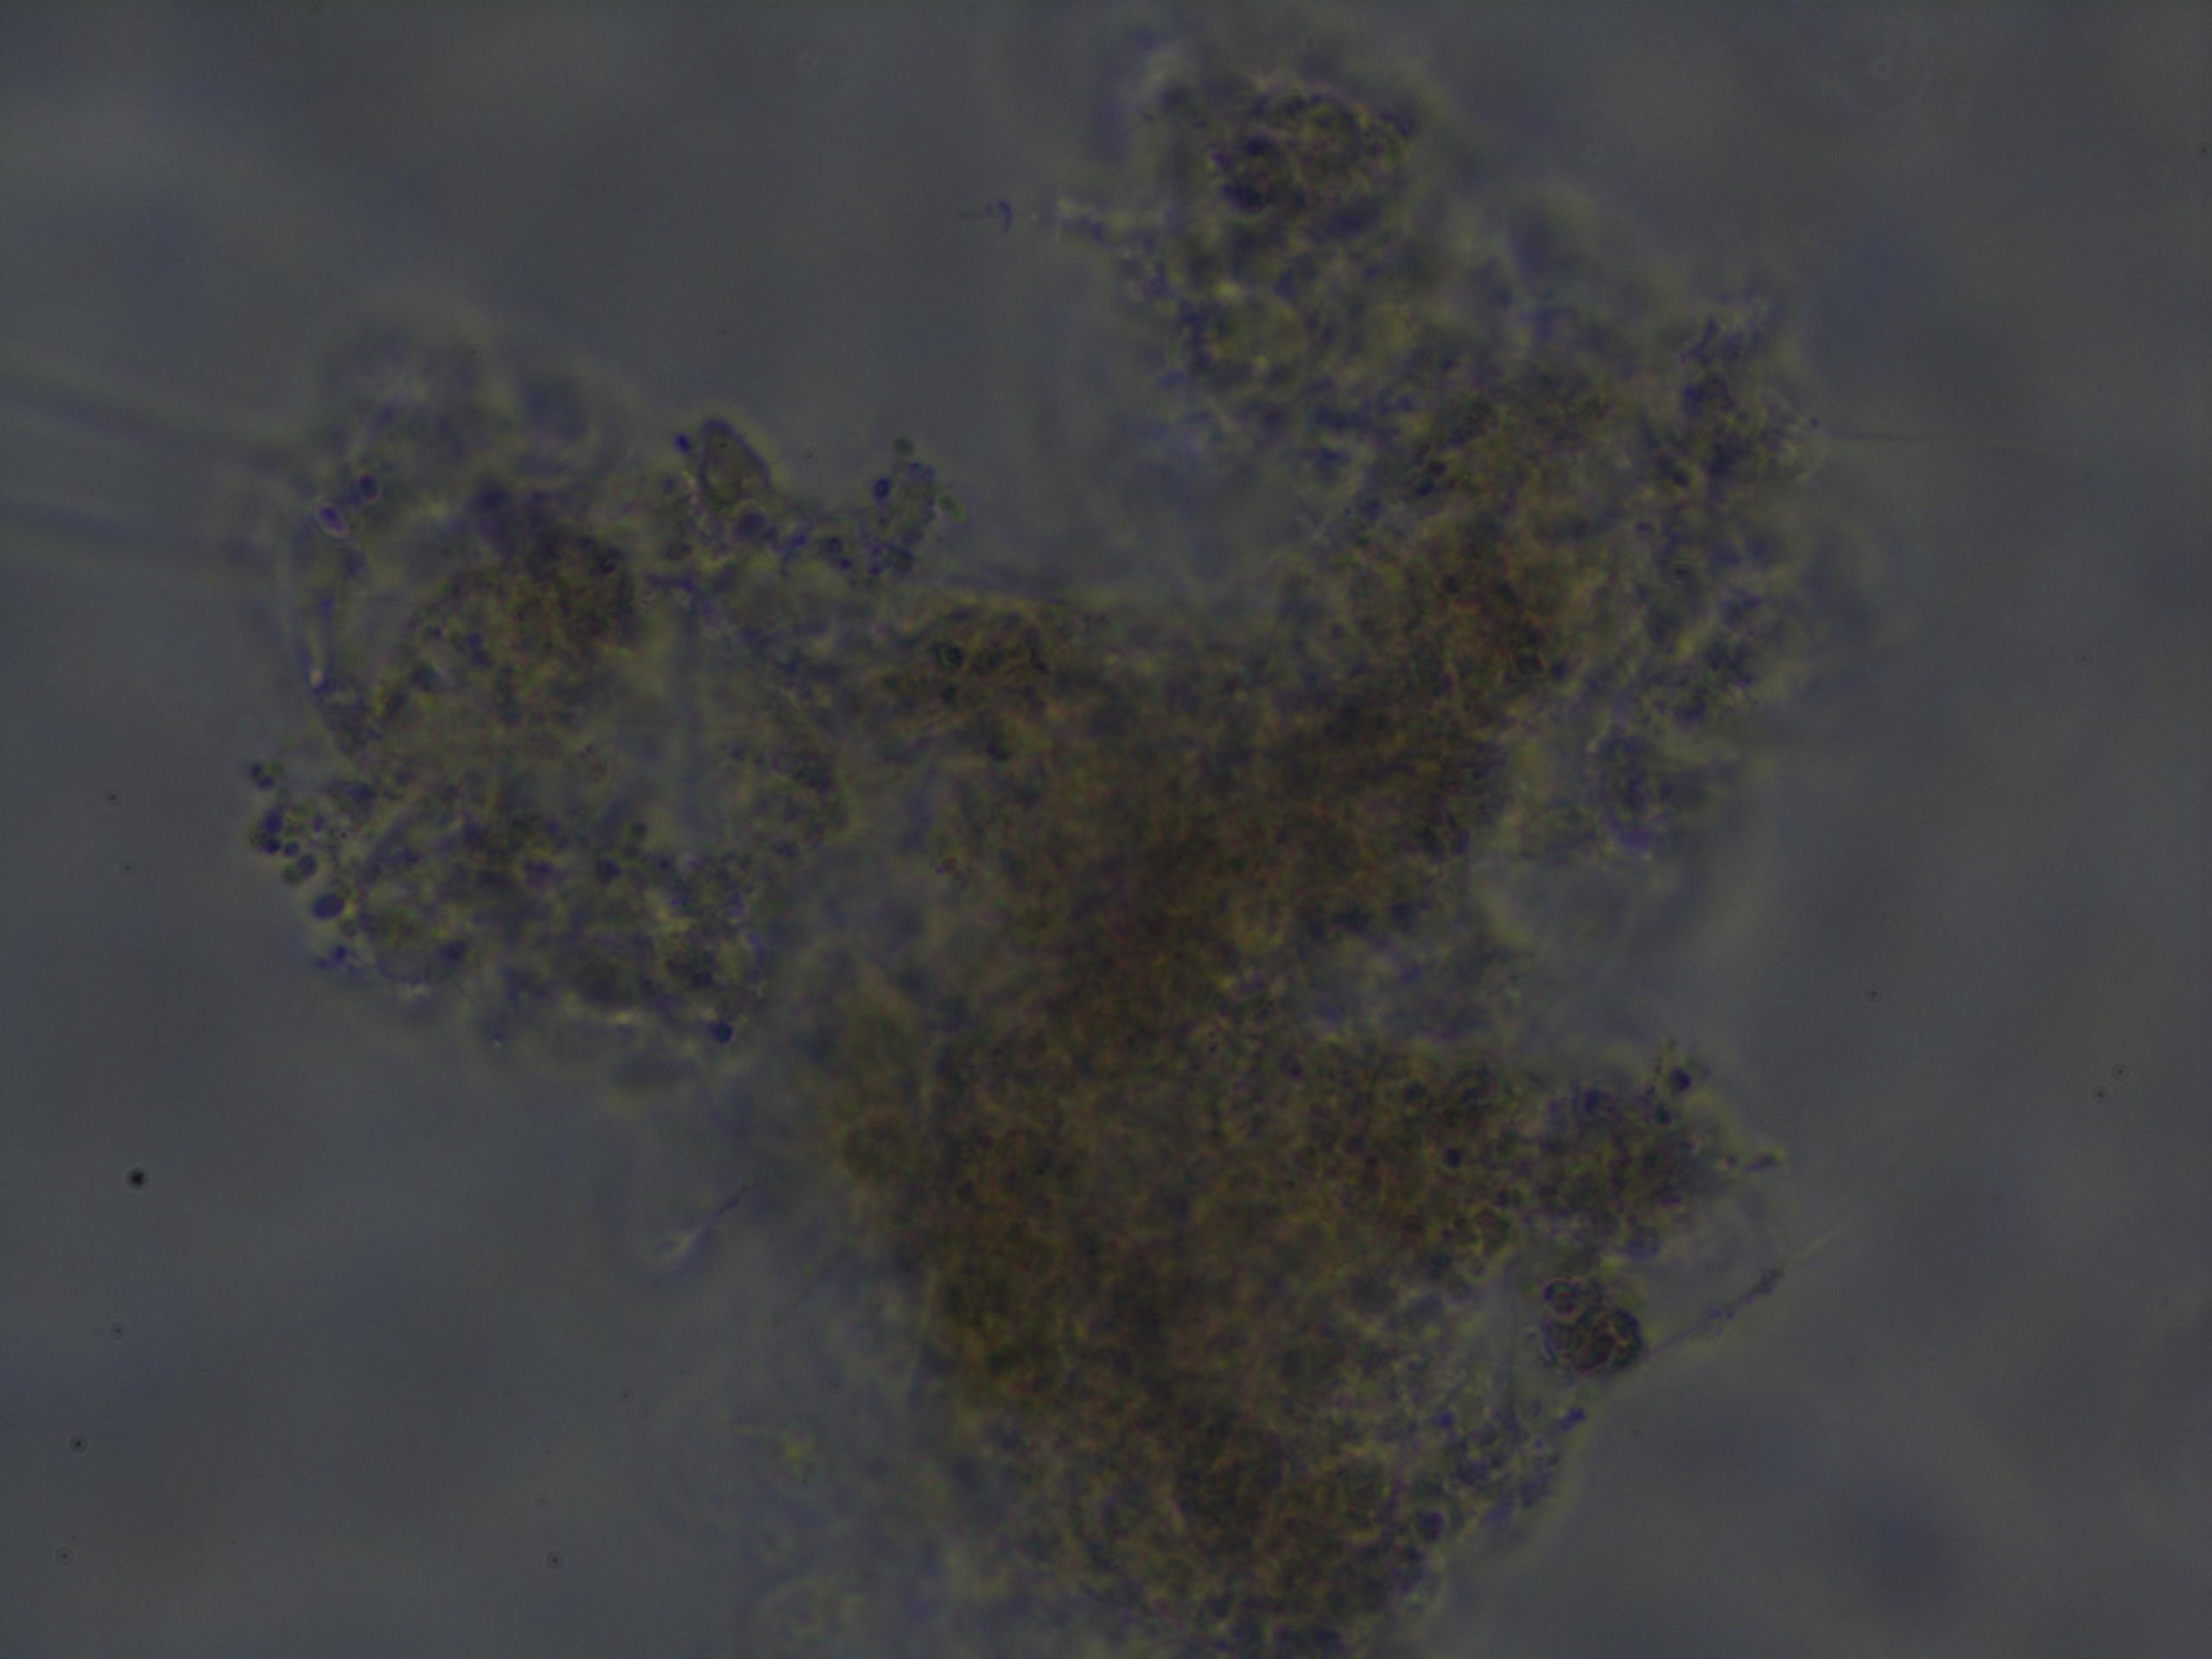open_floc: (239, 40, 1811, 1659)
